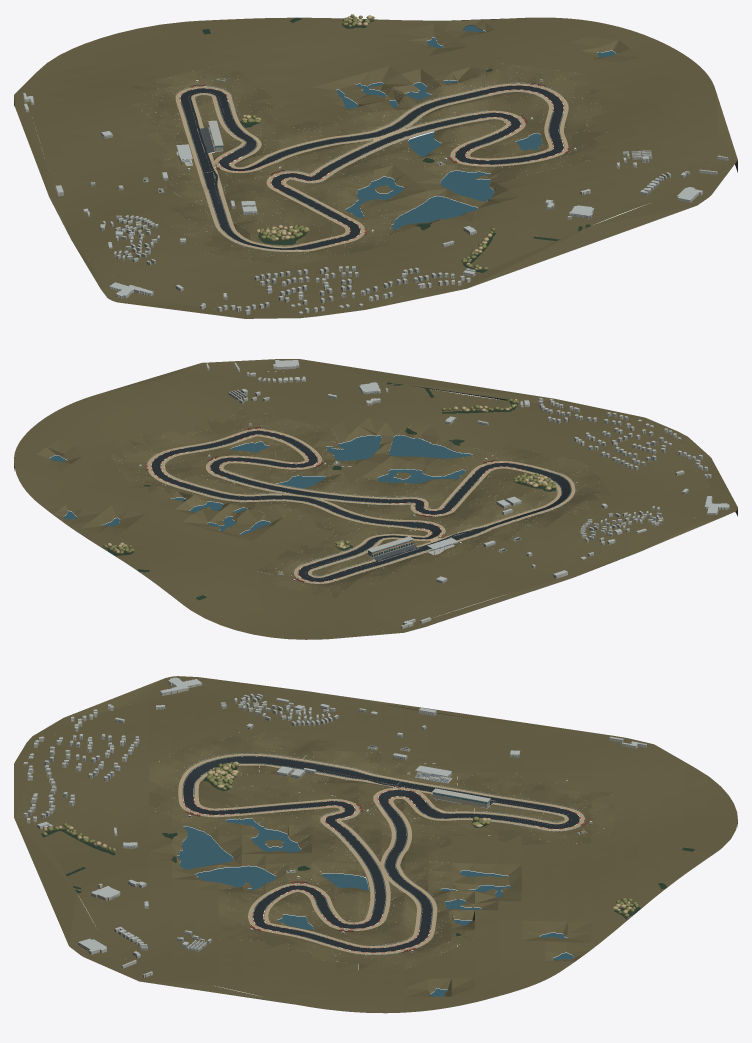
The model's file is Zandvoort.glb.
The picture shows the model from 3 angles, top to bottom: view 1: azimuth 30°, elevation 25°; view 2: azimuth 150°, elevation 25°; view 3: azimuth 270°, elevation 25°; orthographic projection. The views are drawn at different scales.
Visible parts, largest first — view 1: terrain/ground, terrain-ground-finish-1, terrain-extension/land, terrain-ground-finish-2, terrain-ground-finish-3, road/asphalt, runoff/gravel, terrain-ground-finish-0, terrain-ground-finish-4, shoulder/runoff, water-3/water, water-8/water (+4 smaller); view 2: terrain/ground, terrain-ground-finish-1, terrain-ground-finish-2, terrain-extension/land, terrain-ground-finish-3, road/asphalt, runoff/gravel, terrain-ground-finish-0, terrain-ground-finish-4, shoulder/runoff, water-3/water, water-8/water (+5 smaller); view 3: terrain/ground, terrain-ground-finish-1, terrain-ground-finish-2, terrain-extension/land, terrain-ground-finish-3, road/asphalt, runoff/gravel, terrain-ground-finish-0, terrain-ground-finish-4, shoulder/runoff, water-3/water, water-8/water (+5 smaller).
Boxes of the visible parts, box(x1,y1,x2,y2) form: terrain/ground: box(27, 17, 716, 311); terrain-ground-finish-1: box(135, 62, 611, 262); terrain-extension/land: box(14, 72, 737, 318); terrain-ground-finish-2: box(136, 63, 615, 264); terrain-ground-finish-3: box(135, 63, 607, 265); road/asphalt: box(180, 85, 563, 249); runoff/gravel: box(175, 83, 568, 251); terrain-ground-finish-0: box(130, 65, 604, 260); terrain-ground-finish-4: box(133, 65, 603, 263); shoulder/runoff: box(179, 85, 564, 249); water-3/water: box(392, 196, 478, 230); water-8/water: box(440, 170, 494, 201); terrain/ground: box(14, 370, 708, 639); terrain-ground-finish-1: box(130, 409, 612, 594); terrain-ground-finish-2: box(117, 407, 606, 593); terrain-extension/land: box(105, 359, 737, 637); terrain-ground-finish-3: box(113, 418, 591, 592); road/asphalt: box(152, 430, 570, 581); runoff/gravel: box(147, 429, 575, 583); terrain-ground-finish-0: box(130, 419, 601, 598); terrain-ground-finish-4: box(110, 419, 591, 591); shoulder/runoff: box(151, 430, 571, 582); water-3/water: box(389, 435, 472, 458); water-8/water: box(326, 435, 381, 460); terrain/ground: box(25, 687, 737, 1013); terrain-ground-finish-1: box(149, 732, 614, 967); terrain-ground-finish-2: box(149, 731, 614, 969); terrain-extension/land: box(14, 676, 692, 1004); terrain-ground-finish-3: box(149, 731, 614, 967); road/asphalt: box(183, 756, 579, 952); runoff/gravel: box(178, 754, 584, 954); terrain-ground-finish-0: box(149, 737, 613, 969); terrain-ground-finish-4: box(149, 731, 614, 969); shoulder/runoff: box(182, 755, 580, 952); water-3/water: box(177, 826, 233, 869); water-8/water: box(195, 866, 276, 890).
Bounding box in the file's own units: 1734 × 45.09 × 1554.
